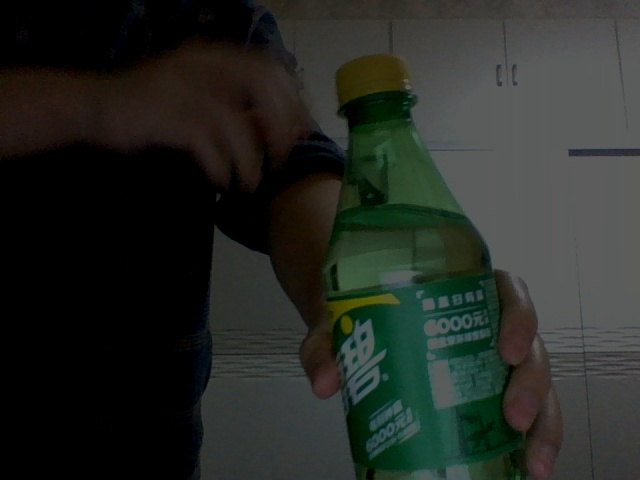Sprite: (317, 51, 532, 479)
